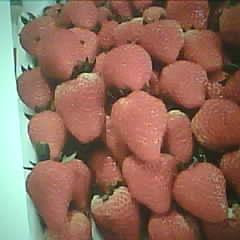straw-ripe: (111, 92, 167, 160), (55, 74, 105, 142), (173, 162, 228, 222), (27, 160, 73, 229)
